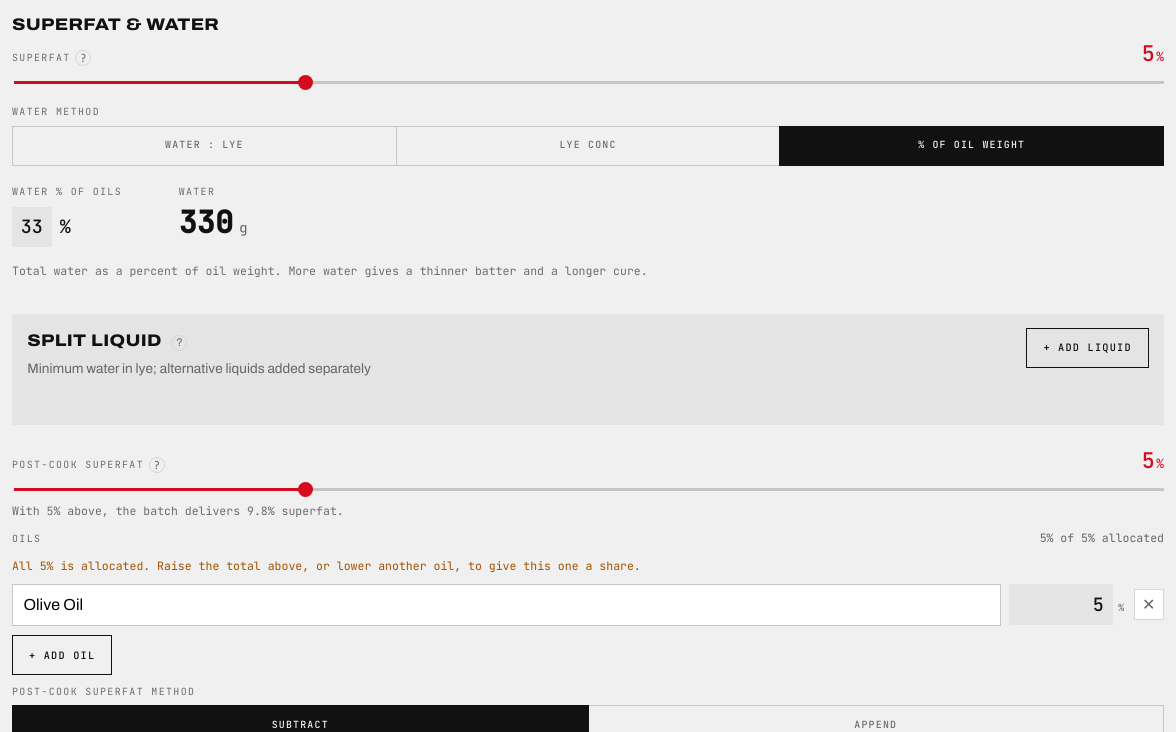
it: a negative total floors to 0 for storage but does not wipe the oil rows (typo protection)
The image size is (1176, 732).
Replace the text in the number field named "Post-cook superfat total %" with "-5" at (1120, 460), box [1084,444,1155,476]
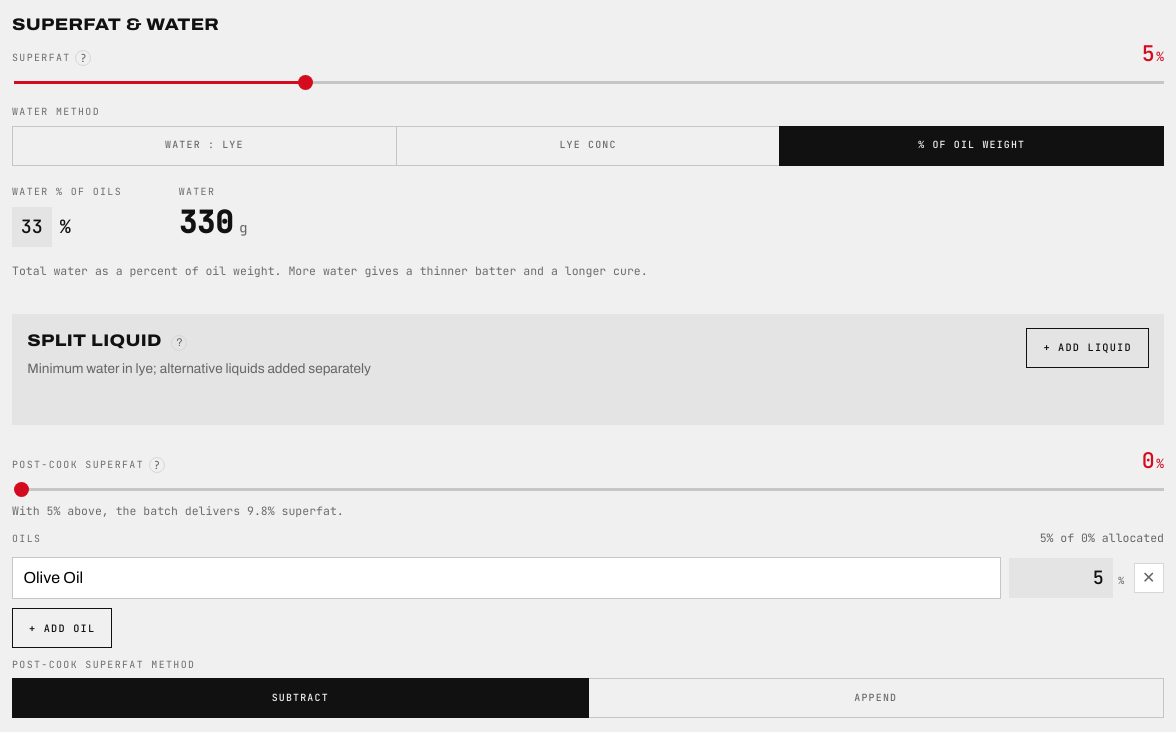
Expected: the number field named "Post-cook superfat % 1" holds "5", [1009,558,1113,598]
Result: the number field named "Post-cook superfat total %" holds "0" at [1084,444,1155,476]
